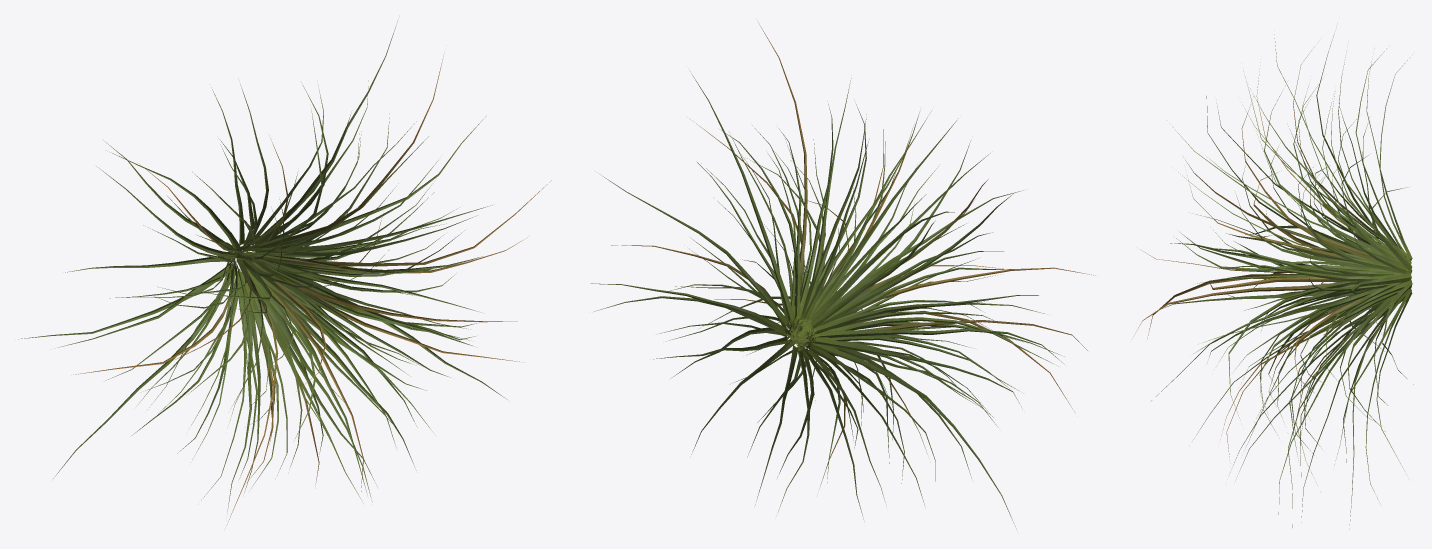
3 views of the same model, side by side, from view 1: azimuth 30°, elevation 25°; view 2: azimuth 150°, elevation 25°; view 3: azimuth 270°, elevation 25° (orthographic). The views are drawn at different scales.
Visible parts, largest first — view 1: GC23_v2; view 2: GC23_v2; view 3: GC23_v2.
Boxes of the visible parts, bbox=[...] form: GC23_v2: bbox=[18, 21, 551, 525]; GC23_v2: bbox=[591, 22, 1095, 528]; GC23_v2: bbox=[1133, 34, 1413, 529].
Size of the model in its own units: 2.29 by 2.05 by 1.17.
2 materials, 2 textured.
